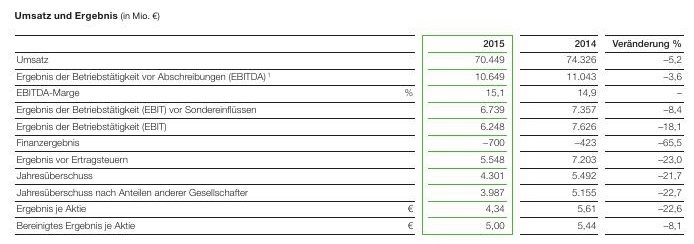table: (0, 0, 694, 244)
